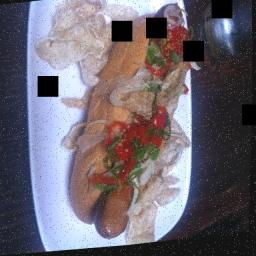hotdog: (97, 178, 136, 244), (148, 0, 184, 36)
